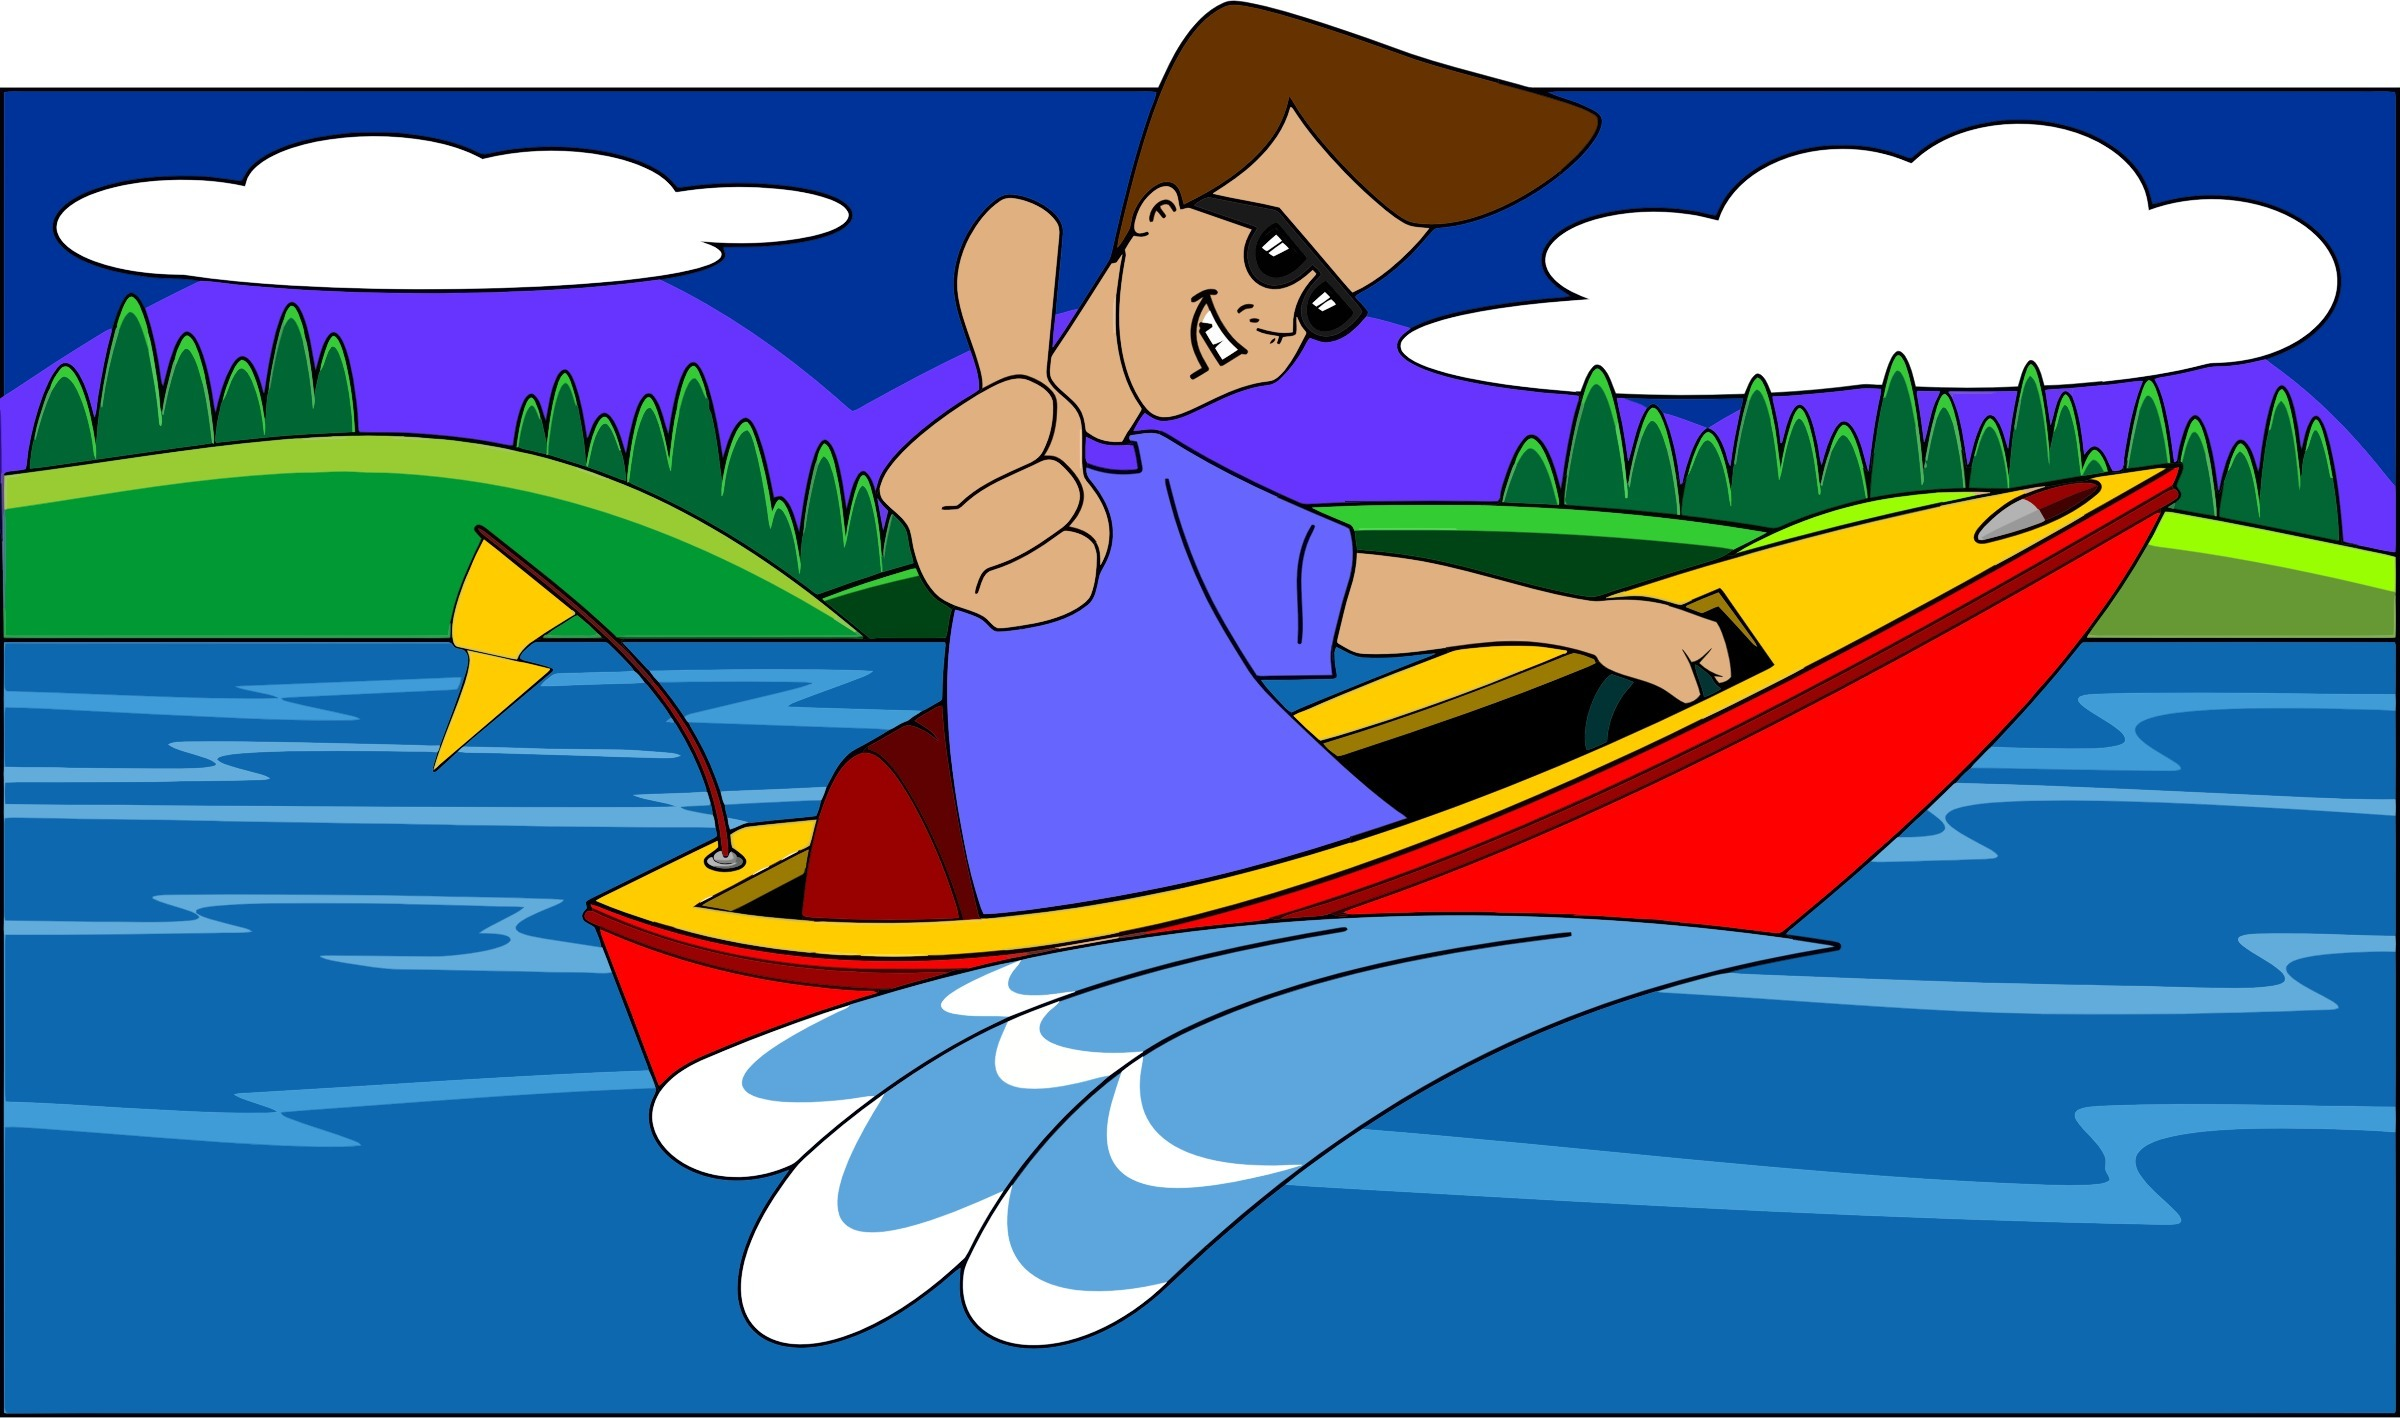boat: (473, 429, 2203, 1103)
person: (842, 29, 1737, 926)
